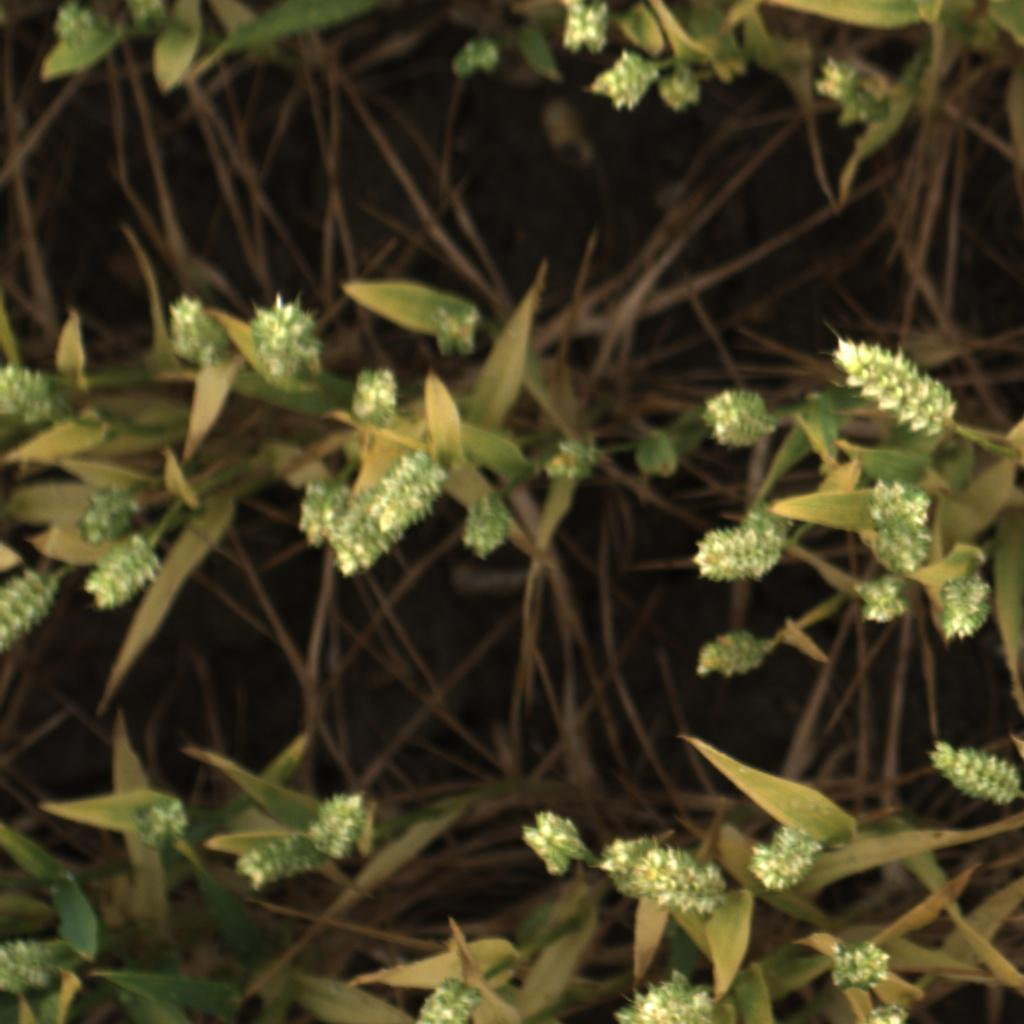0-0: (828, 329, 956, 441), (590, 830, 732, 913), (327, 472, 416, 591), (855, 468, 943, 577), (921, 735, 1024, 814), (245, 297, 322, 388), (84, 534, 166, 618), (689, 520, 786, 591), (745, 822, 828, 899), (513, 806, 592, 883), (698, 384, 781, 457), (235, 829, 322, 892), (281, 473, 348, 554), (378, 453, 442, 537), (608, 977, 721, 1024), (306, 788, 374, 865), (0, 560, 60, 645), (162, 294, 228, 371), (125, 791, 203, 855), (686, 627, 772, 685), (584, 48, 657, 115), (931, 577, 992, 649), (421, 297, 489, 361), (345, 359, 405, 430), (849, 574, 917, 635), (44, 0, 114, 59), (77, 483, 141, 547), (3, 353, 56, 429), (455, 498, 514, 566), (648, 57, 714, 117), (827, 937, 893, 994), (3, 933, 56, 1000), (409, 977, 483, 1024), (539, 438, 603, 490), (807, 51, 865, 107), (632, 426, 684, 488), (560, 0, 615, 55), (115, 0, 177, 40), (446, 39, 497, 76), (866, 1004, 905, 1024)
